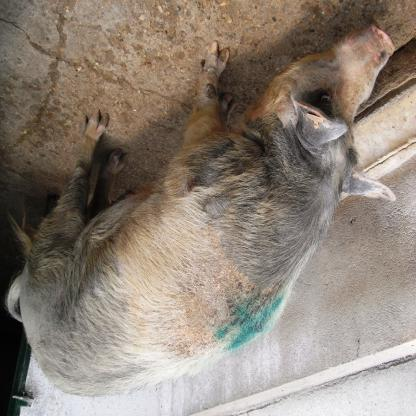boar: (3, 21, 394, 398)
